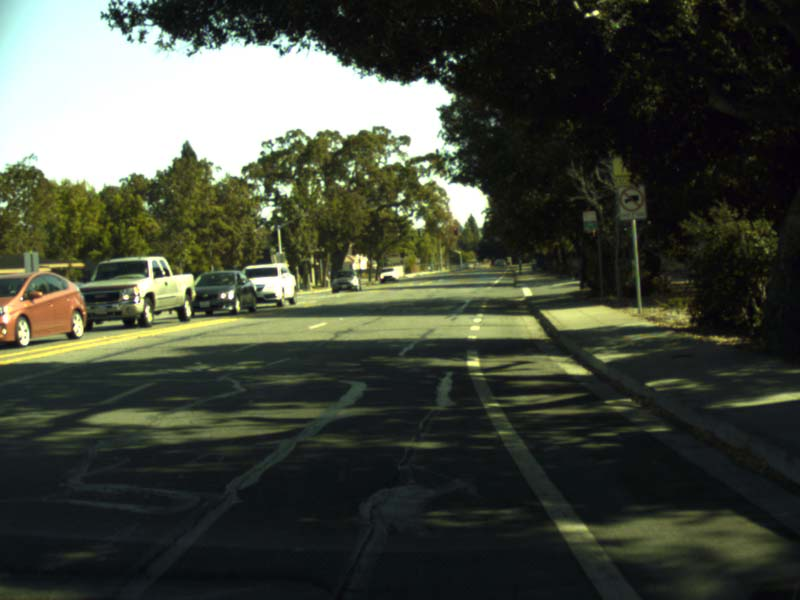Red: (453, 226, 457, 234)
